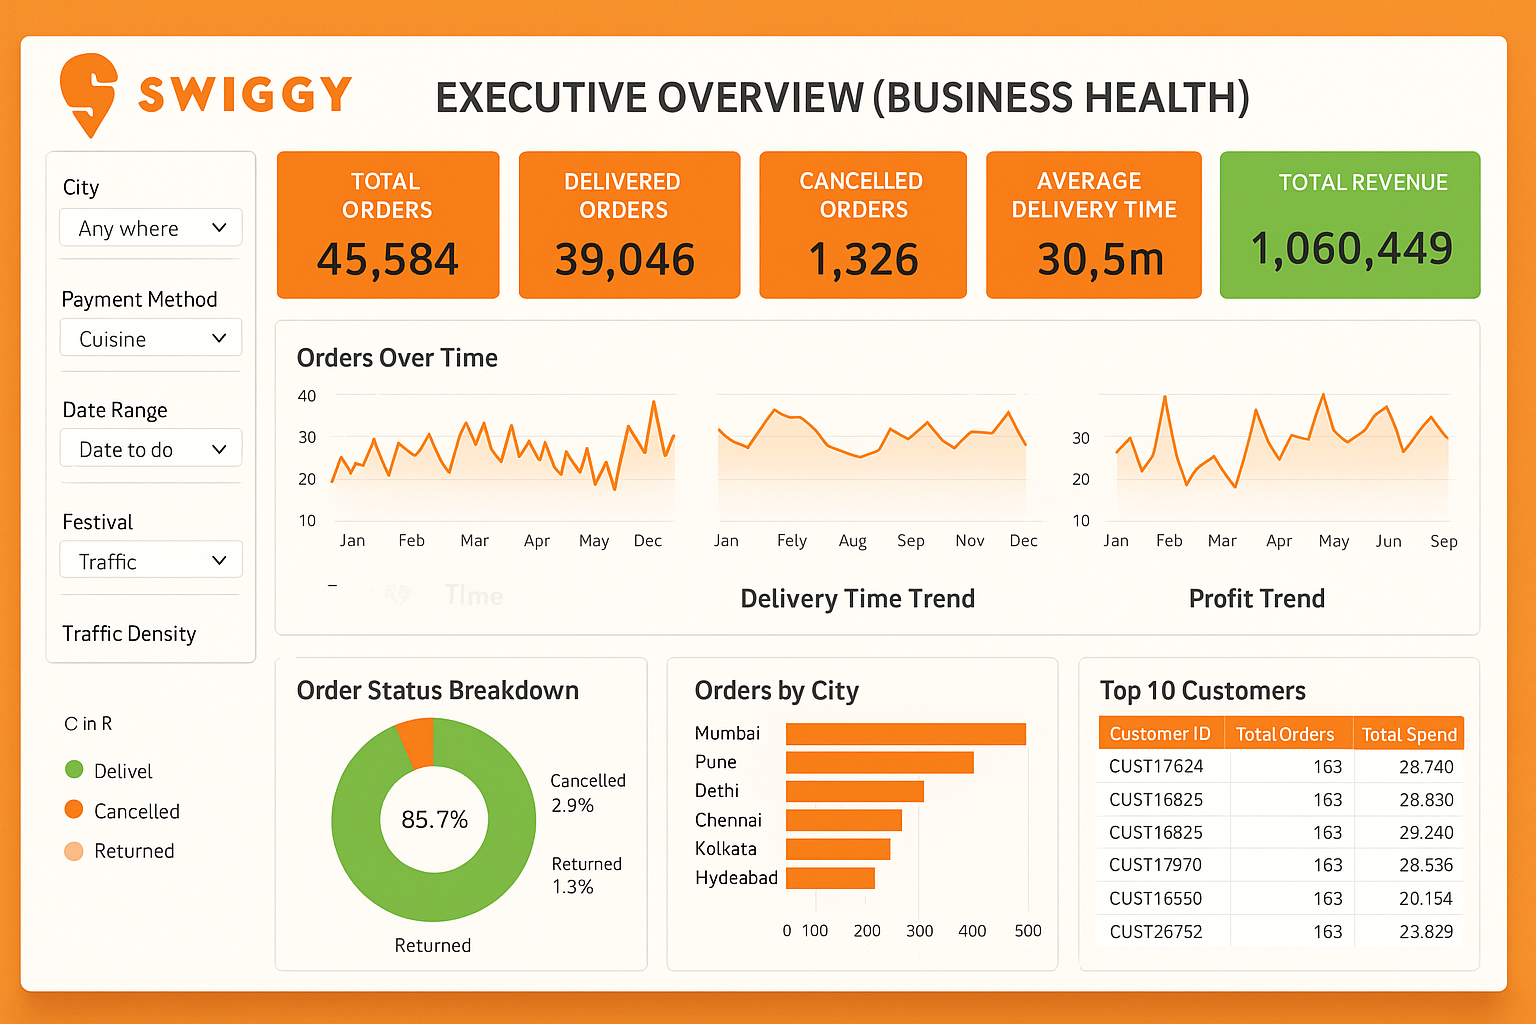

Layout of this report page (visuals, bound fields, positions):
{"tool":"powerbi","page":{"name":"Executive Overview","canvas":[1280,720],"ordinal":0},"visuals":[{"type":"shape","box":[8.6,0,1261.4,718],"z":0},{"type":"shape","box":[27.5,102.5,146.2,601.2],"z":0,"group":"g1"},{"type":"image","box":[19.6,24.5,292,77.3],"z":1000},{"type":"slicer","fields":{"Values":["swiggy_cleaned_data.City"]},"box":[36.3,127.5,129,67.5],"z":1000,"group":"g1"},{"type":"textbox","box":[311.7,24.5,770.6,54],"z":2000},{"type":"slicer","fields":{"Values":["swiggy_cleaned_data.Payment_Method"]},"box":[36.3,206.3,129,67.5],"z":2000,"group":"g1"},{"type":"cardVisual","fields":{"Data":["swiggy_cleaned_data.total_orders","swiggy_cleaned_data.delivered_orders","swiggy_cleaned_data.cancelled_orders","swiggy_cleaned_data.average_delivery_time","swiggy_cleaned_data.total_revenue","swiggy_cleaned_data.total_profit"]},"box":[173.6,102.9,1079.1,116.6],"z":3000},{"type":"slicer","fields":{"Values":["swiggy_cleaned_data.Road_traffic_density"]},"box":[36.3,291.3,129,67.5],"z":3000,"group":"g1"},{"type":"shape","box":[178.8,218.8,1073.8,220],"z":4000},{"type":"slicer","fields":{"Values":["swiggy_cleaned_data.Festival"]},"box":[36.3,371.3,129,67.5],"z":4000,"group":"g1"},{"type":"lineChart","title":"Orders over Time","fields":{"Y":["swiggy_cleaned_data.total_orders"],"Category":["swiggy_cleaned_data.Order_Date.Variation.Date Hierarchy.Month","swiggy_cleaned_data.Order_Date.Variation.Date Hierarchy.Day"]},"box":[190,228.8,338.8,197.5],"z":5000},{"type":"image","box":[36.3,606.3,130,68.8],"z":5000,"group":"g1"},{"type":"lineChart","title":"Delivery Time Trend","fields":{"Category":["swiggy_cleaned_data.Order_Date.Variation.Date Hierarchy.Month","swiggy_cleaned_data.Order_Date.Variation.Date Hierarchy.Day"],"Y":["swiggy_cleaned_data.delivered_orders"]},"box":[537.5,228.8,341.2,197.5],"z":6000},{"type":"slicer","fields":{"Values":["swiggy_cleaned_data.Cuisine"]},"box":[36.7,452,129.3,67.3],"z":6000,"group":"g1"},{"type":"lineChart","title":"Profit Trend","fields":{"Category":["swiggy_cleaned_data.Order_Date.Variation.Date Hierarchy.Month"],"Y":["swiggy_cleaned_data.total_profit"]},"box":[888.8,228.8,343.8,197.5],"z":7000},{"type":"shape","box":[178.8,446.2,350,257.5],"z":8000},{"type":"donutChart","title":"Order Status Breakdown","fields":{"Category":["swiggy_cleaned_data.Order_Status"],"Y":["CountNonNull(swiggy_cleaned_data.Order_Status)"]},"box":[190,457.5,327.5,237.5],"z":9000},{"type":"shape","box":[537.5,446.2,352.5,257.5],"z":10000},{"type":"shape","box":[900,446.2,352.5,257.5],"z":11000},{"type":"clusteredBarChart","title":"Orders by City","fields":{"Y":["swiggy_cleaned_data.total_orders"],"Category":["swiggy_cleaned_data.City"]},"box":[547.5,457.5,331.2,237.5],"z":12000},{"type":"pivotTable","title":"Top 10 Customers","fields":{"Rows":["swiggy_cleaned_data.Customer_ID"],"Values":["swiggy_cleaned_data.total_orders","swiggy_cleaned_data.total_spent"]},"box":[911.2,457.5,328,237.5],"z":13000},{"type":"group","id":"g1","title":"Slicers","box":[27.5,102.5,146.2,601.2],"z":14000}]}

Visuals, with their boxes on the page's 1280x720 design canvas (x1, y1, x2, y2). These are canvas units, not pixel positions in the 1536x1024 screenshot, which may show the page scaled, cropped or inside an application window:
shape: bbox=[9, 0, 1270, 718]
shape: bbox=[28, 102, 174, 704]
image: bbox=[20, 24, 312, 102]
slicer - swiggy_cleaned_data.City: bbox=[36, 128, 165, 195]
textbox: bbox=[312, 24, 1082, 78]
slicer - swiggy_cleaned_data.Payment_Method: bbox=[36, 206, 165, 274]
cardVisual - swiggy_cleaned_data.total_orders x swiggy_cleaned_data.delivered_orders: bbox=[174, 103, 1253, 220]
slicer - swiggy_cleaned_data.Road_traffic_density: bbox=[36, 291, 165, 359]
shape: bbox=[179, 219, 1253, 439]
slicer - swiggy_cleaned_data.Festival: bbox=[36, 371, 165, 439]
"Orders over Time" lineChart: bbox=[190, 229, 529, 426]
image: bbox=[36, 606, 166, 675]
"Delivery Time Trend" lineChart: bbox=[538, 229, 879, 426]
slicer - swiggy_cleaned_data.Cuisine: bbox=[37, 452, 166, 519]
"Profit Trend" lineChart: bbox=[889, 229, 1233, 426]
shape: bbox=[179, 446, 529, 704]
"Order Status Breakdown" donutChart: bbox=[190, 458, 518, 695]
shape: bbox=[538, 446, 890, 704]
shape: bbox=[900, 446, 1252, 704]
"Orders by City" clusteredBarChart: bbox=[548, 458, 879, 695]
"Top 10 Customers" pivotTable: bbox=[911, 458, 1239, 695]
"Slicers" group: bbox=[28, 102, 174, 704]
